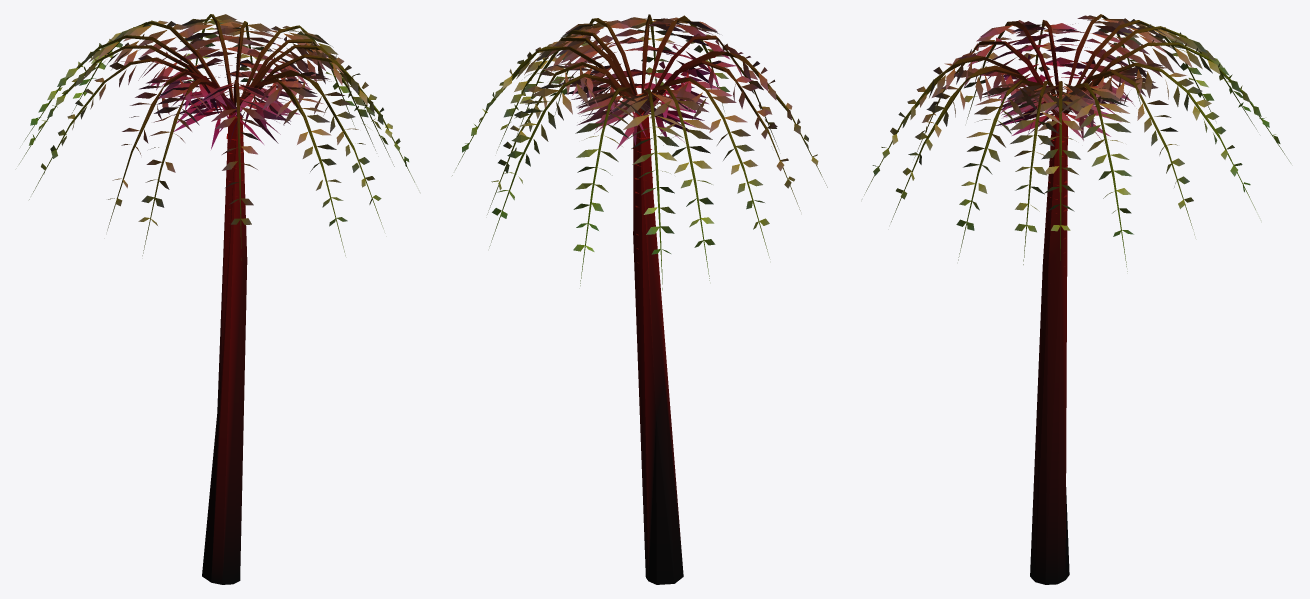
The model's file is Tree_Palmera_LOD0.fbx.
3 views of the same model, side by side, from view 1: azimuth 30°, elevation 25°; view 2: azimuth 150°, elevation 25°; view 3: azimuth 270°, elevation 25° (orthographic). The views are drawn at different scales.
Parts seen in each view (by area): view 1: Tree_Palmera_LOD0; view 2: Tree_Palmera_LOD0; view 3: Tree_Palmera_LOD0.
Part boxes in pixels (<box>): Tree_Palmera_LOD0: <box>19,14,414,584</box>; Tree_Palmera_LOD0: <box>452,14,827,584</box>; Tree_Palmera_LOD0: <box>864,14,1290,584</box>.
Size of the model in its own units: 7.29 by 11.17 by 8.29.
